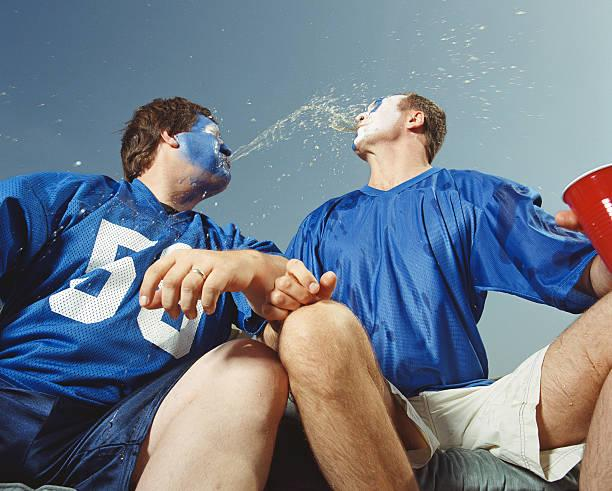Spitting: (97, 89, 255, 213), (322, 61, 461, 181)
